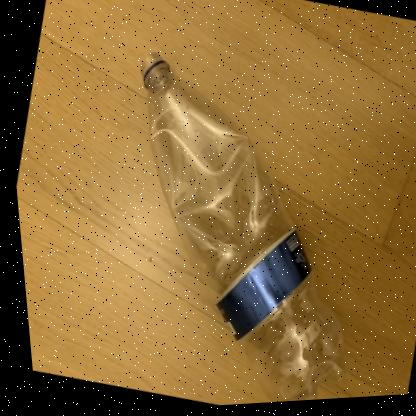Plastic: (138, 53, 334, 405)
